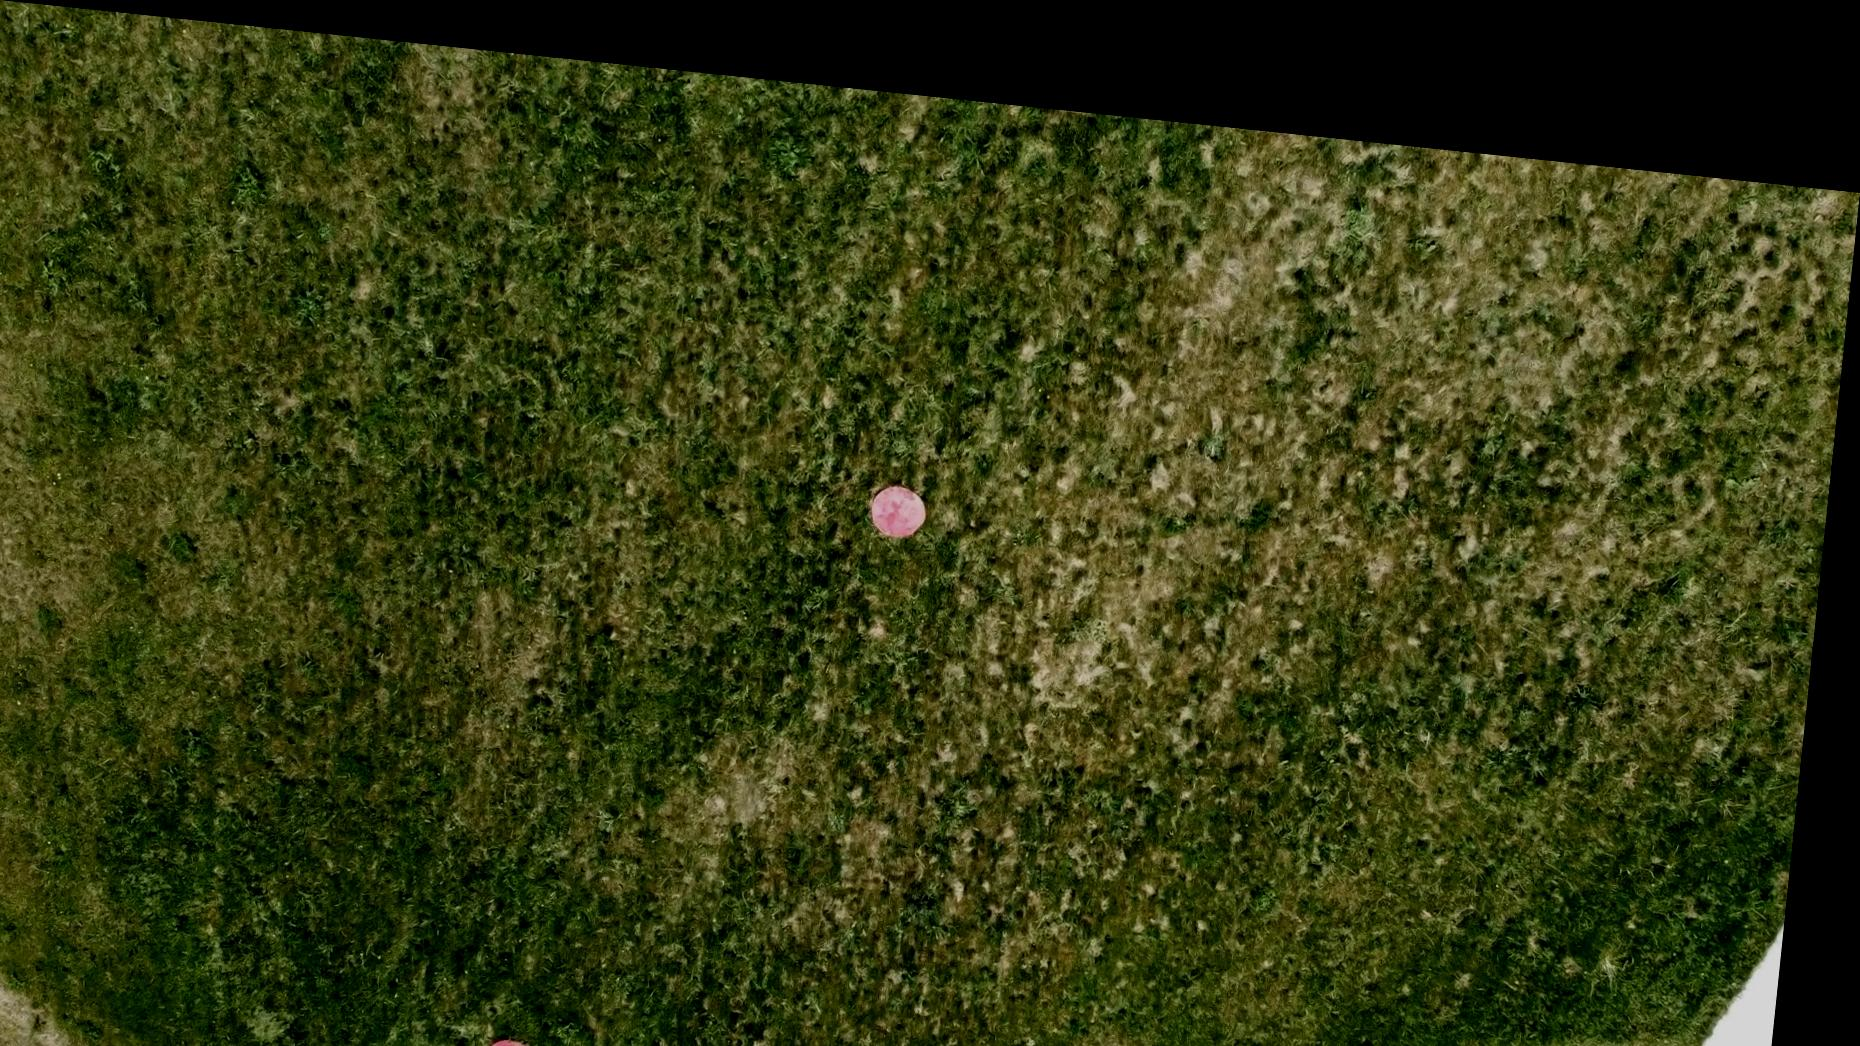Red: (873, 460, 940, 522), (505, 1020, 561, 1046)
